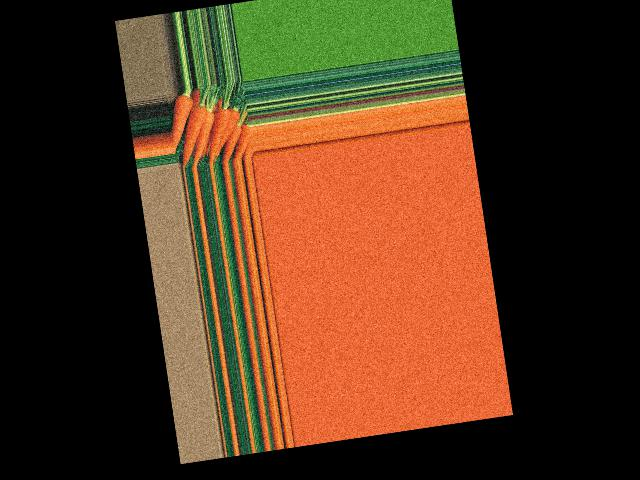carrot: (219, 120, 248, 160)
